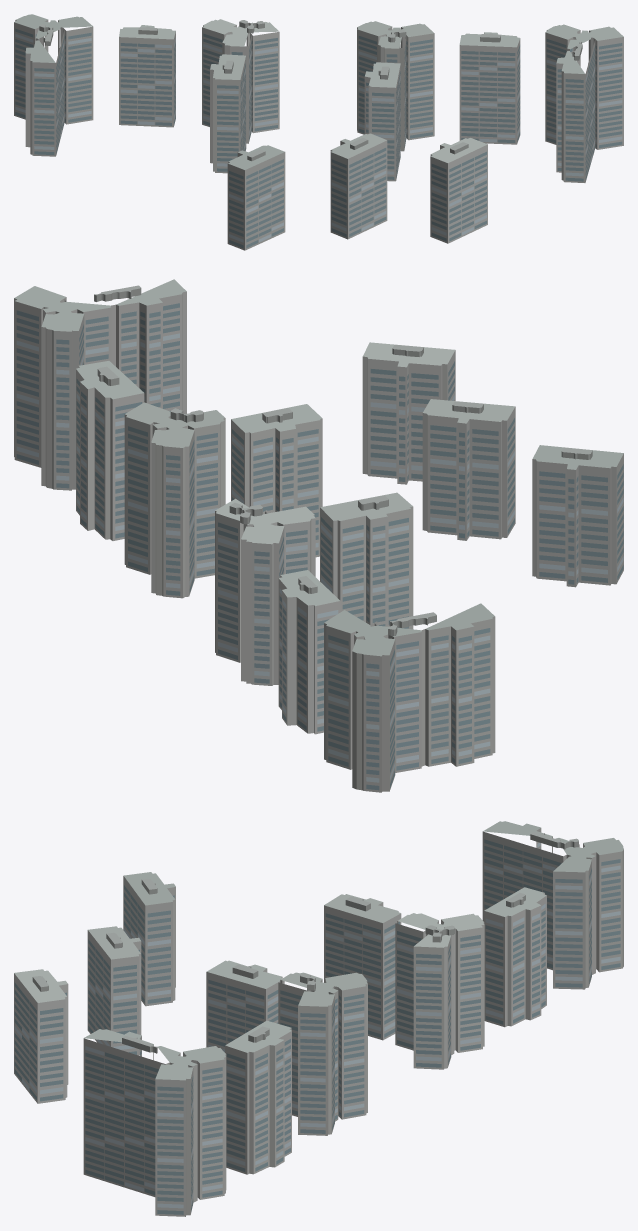
The model's file is apt-a12127001.glb.
3 renders of one model, top to bottom at view 1: azimuth 30°, elevation 25°; view 2: azimuth 150°, elevation 25°; view 3: azimuth 270°, elevation 25°, orthographic. The views are drawn at different scales.
Visible parts, largest first — view 1: apt-a12127001; view 2: apt-a12127001; view 3: apt-a12127001.
Boxes of the visible parts, <box> form: apt-a12127001: <box>14,14,623,250</box>; apt-a12127001: <box>14,279,623,792</box>; apt-a12127001: <box>14,821,623,1216</box>.
Size of the model in its own units: 243 by 58 by 225.
